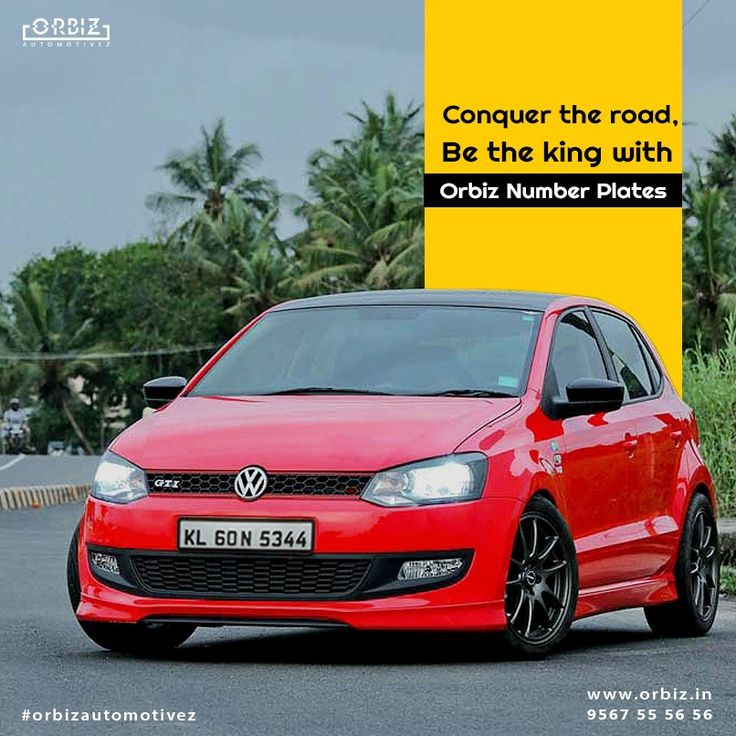number_plate: (173, 513, 322, 557)
